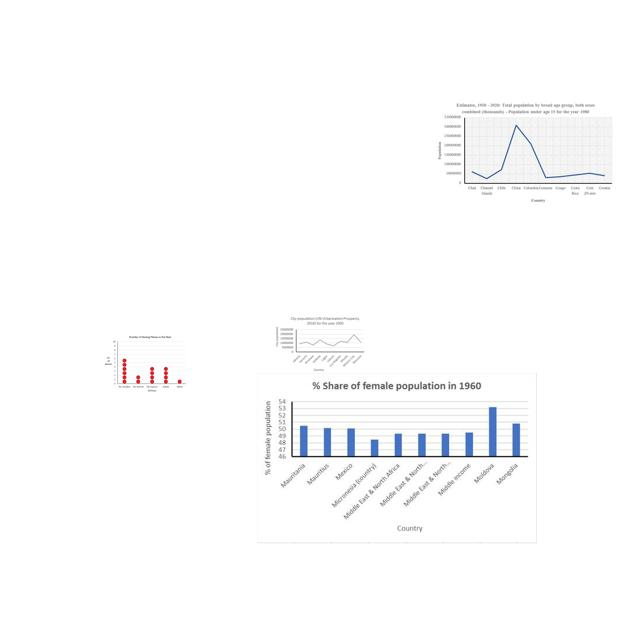Graph: (257, 373, 537, 544), (436, 101, 615, 204), (273, 315, 366, 373), (104, 335, 186, 393)
